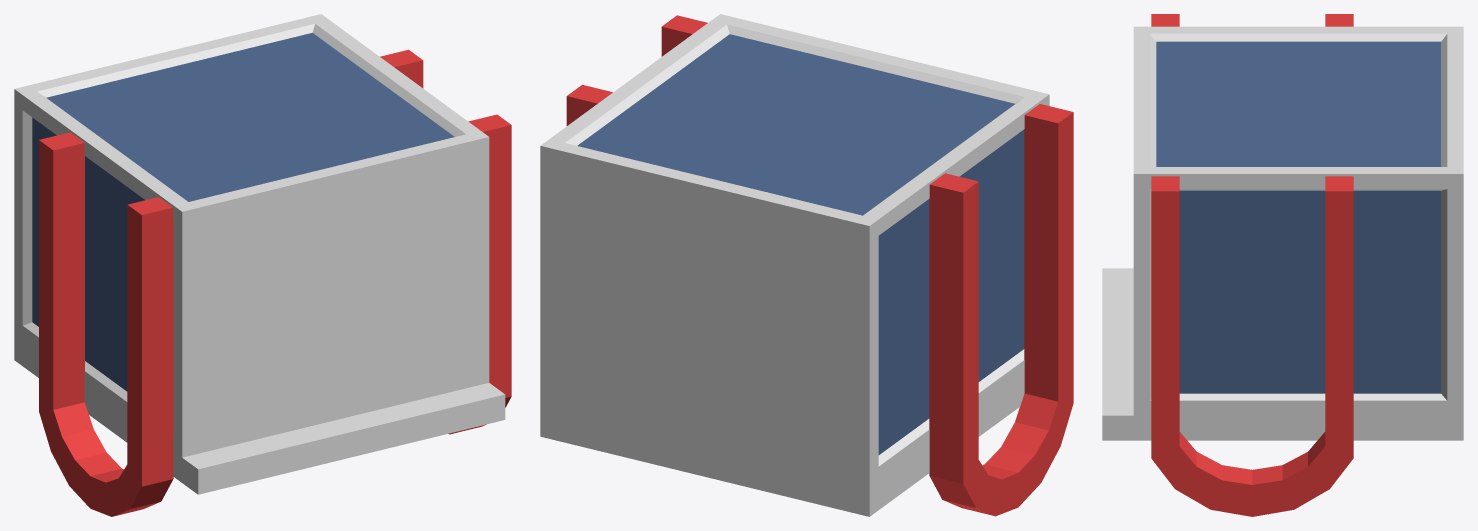
The model's file is calisanGenclikMerkezi.glb.
3 views of the same model, side by side, from view 1: azimuth 30°, elevation 25°; view 2: azimuth 150°, elevation 25°; view 3: azimuth 270°, elevation 25° (orthographic). The views are drawn at different scales.
Visible parts, largest first — view 1: shadeWhite, shadeBlue, shadeRed; view 2: shadeWhite, shadeBlue, shadeRed; view 3: shadeBlue, shadeWhite, shadeRed.
Part boxes in pixels (left/top/right/bottom): shadeWhite: left=14, top=14, right=505, bottom=494; shadeBlue: left=32, top=33, right=454, bottom=391; shadeRed: left=39, top=49, right=511, bottom=516; shadeWhite: left=540, top=14, right=1049, bottom=516; shadeBlue: left=577, top=34, right=1024, bottom=454; shadeRed: left=566, top=15, right=1073, bottom=516; shadeBlue: left=1156, top=41, right=1440, bottom=393; shadeWhite: left=1102, top=26, right=1463, bottom=440; shadeRed: left=1151, top=14, right=1353, bottom=516.
Bounding box in the file's own units: 5.11 × 4.4 × 4.4.
